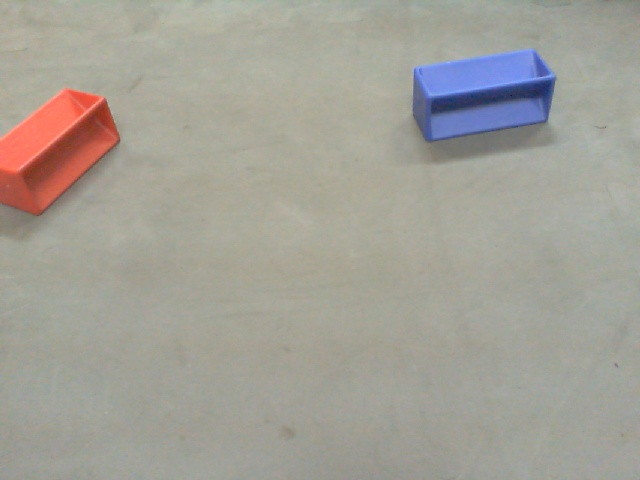BlueSample: (401, 48, 562, 147)
RedSample: (1, 87, 122, 217)
